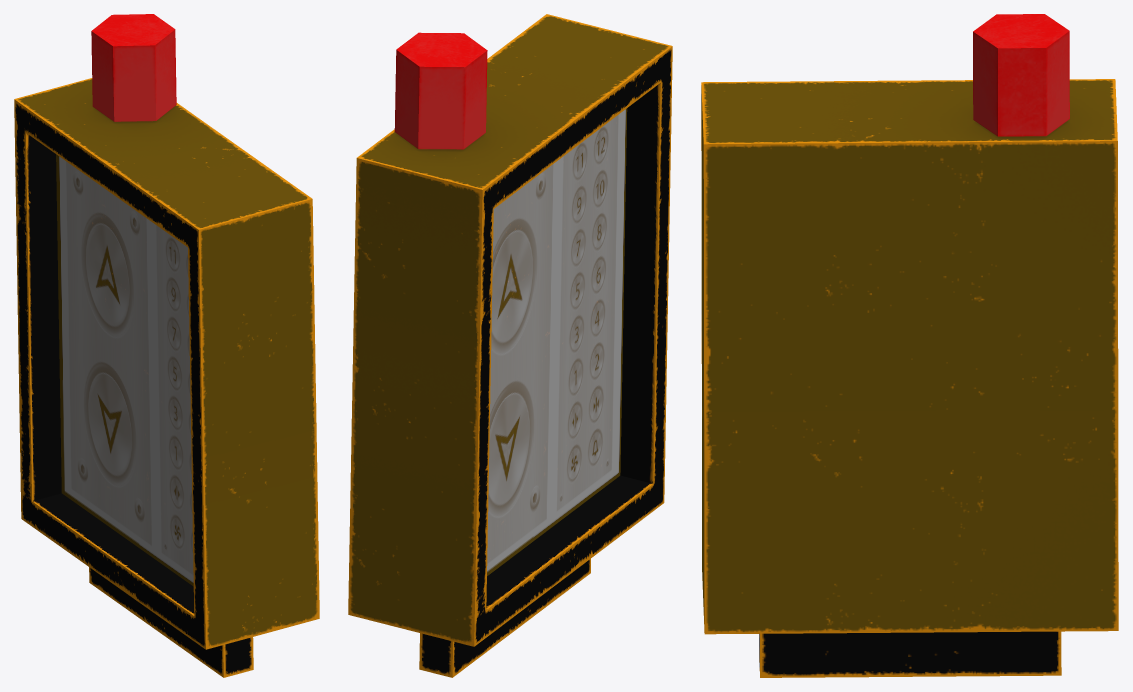
File: LiftControl.fbx
3 views of the same model, side by side, from view 1: azimuth 30°, elevation 25°; view 2: azimuth 150°, elevation 25°; view 3: azimuth 270°, elevation 25° (orthographic). The views are drawn at different scales.
Parts seen in each view (by area): view 1: Cube.015; view 2: Cube.015; view 3: Cube.015.
Boxes of the visible parts, bbox=[...] form: Cube.015: bbox=[14, 14, 319, 677]; Cube.015: bbox=[348, 14, 672, 677]; Cube.015: bbox=[701, 14, 1118, 677].
Size of the model in its own units: 150 by 630 by 370.
1 material, 1 textured.
